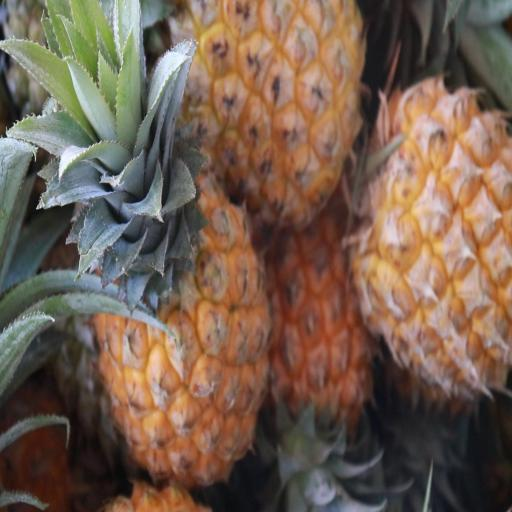Pineapple - v8 v1: (84, 128, 271, 488), (357, 74, 512, 384), (196, 2, 370, 222), (268, 209, 398, 433)
